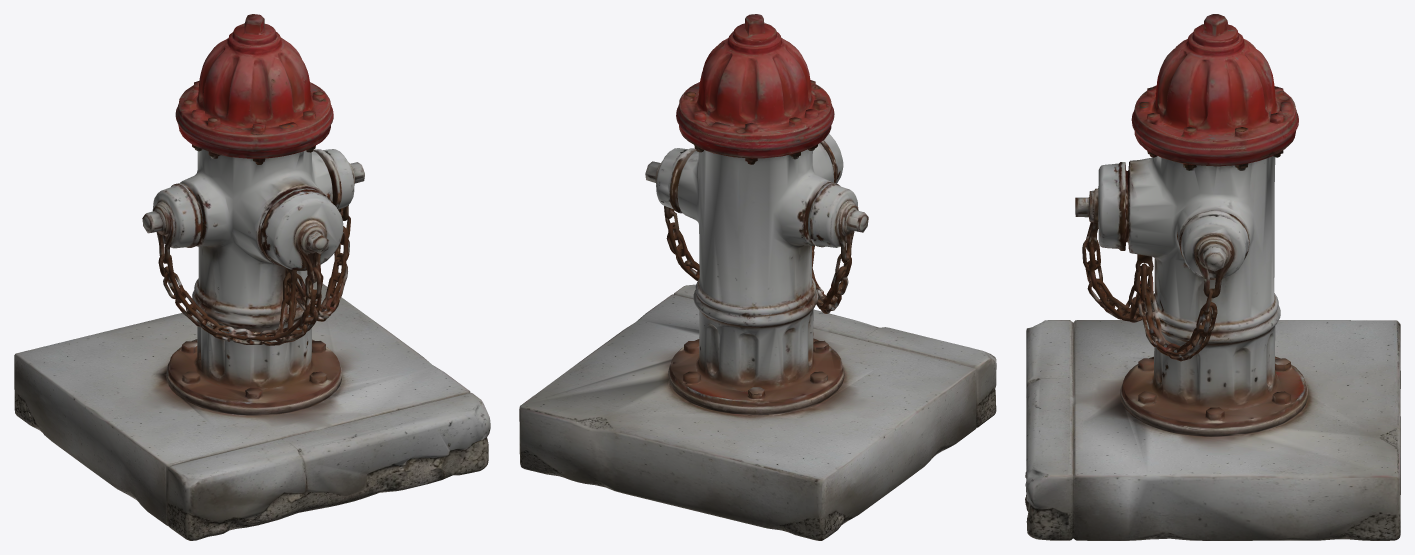
Rendered from hydrant.glb.
The picture shows the model from 3 angles, left to right: view 1: azimuth 30°, elevation 25°; view 2: azimuth 150°, elevation 25°; view 3: azimuth 270°, elevation 25°; orthographic projection. The views are drawn at different scales.
Parts seen in each view (by area): view 1: node_0; view 2: node_0; view 3: node_0.
Part boxes in pixels (bbox=[...]): node_0: bbox=[14, 14, 490, 540]; node_0: bbox=[519, 14, 996, 540]; node_0: bbox=[1025, 14, 1400, 540].
Size of the model in its own units: 0.6263 by 0.8278 by 0.6299.
1 material, 1 textured.
